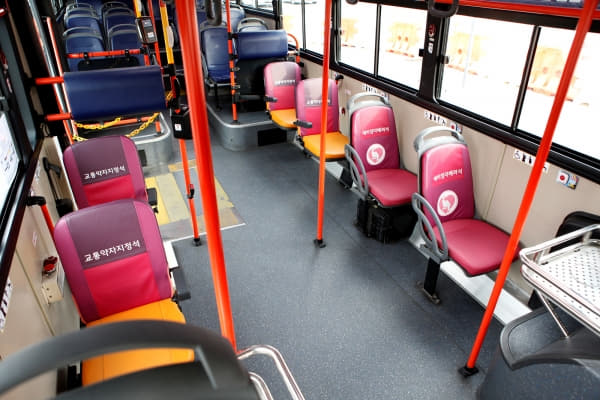seat: (410, 117, 532, 281)
